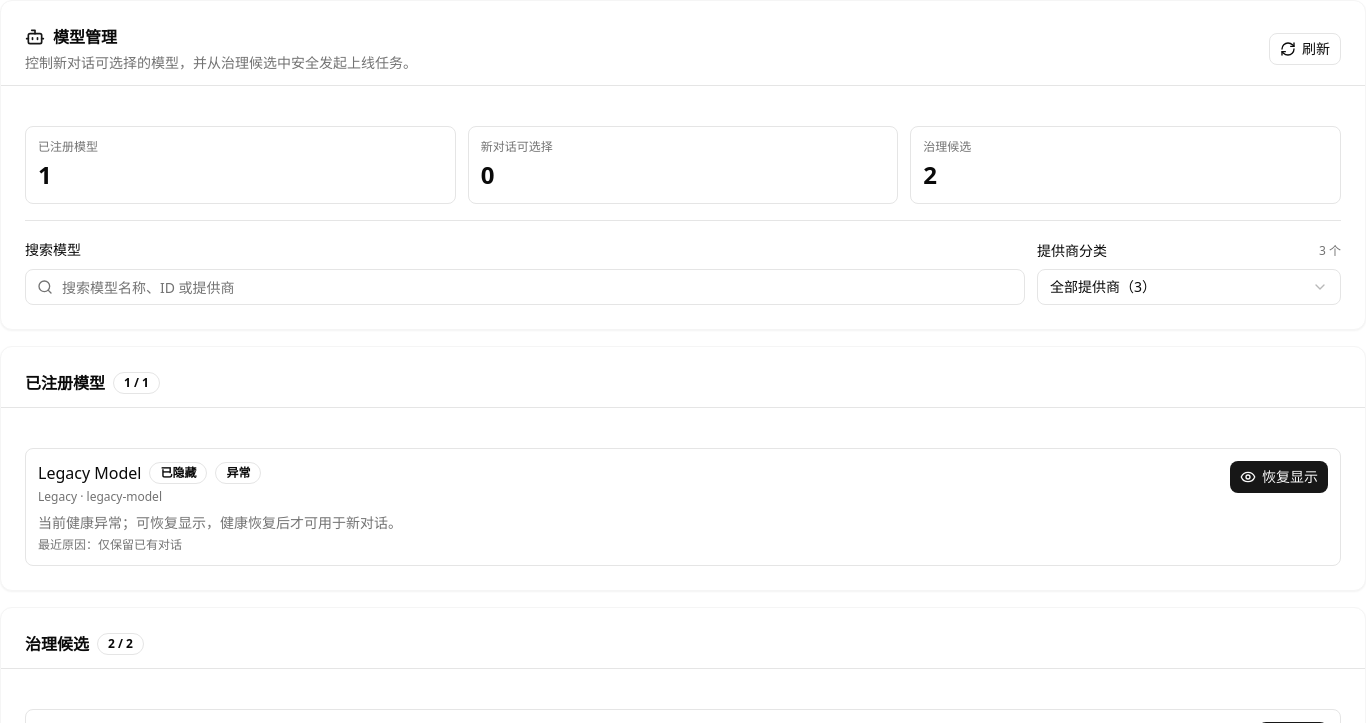
ModelManagementPanel › 健康异常的隐藏模型只恢复显示，不误报为立即可选择
Expected: the text "1" is shown, [38,158,52,191]
Expected: the text "当前健康异常；可恢复显示，健康恢复后才可用于新对话。" is shown, [38,513,402,533]
Click the button with aria-label "恢复显示 Legacy Model" at (1279, 477), box [1230,461,1328,493]
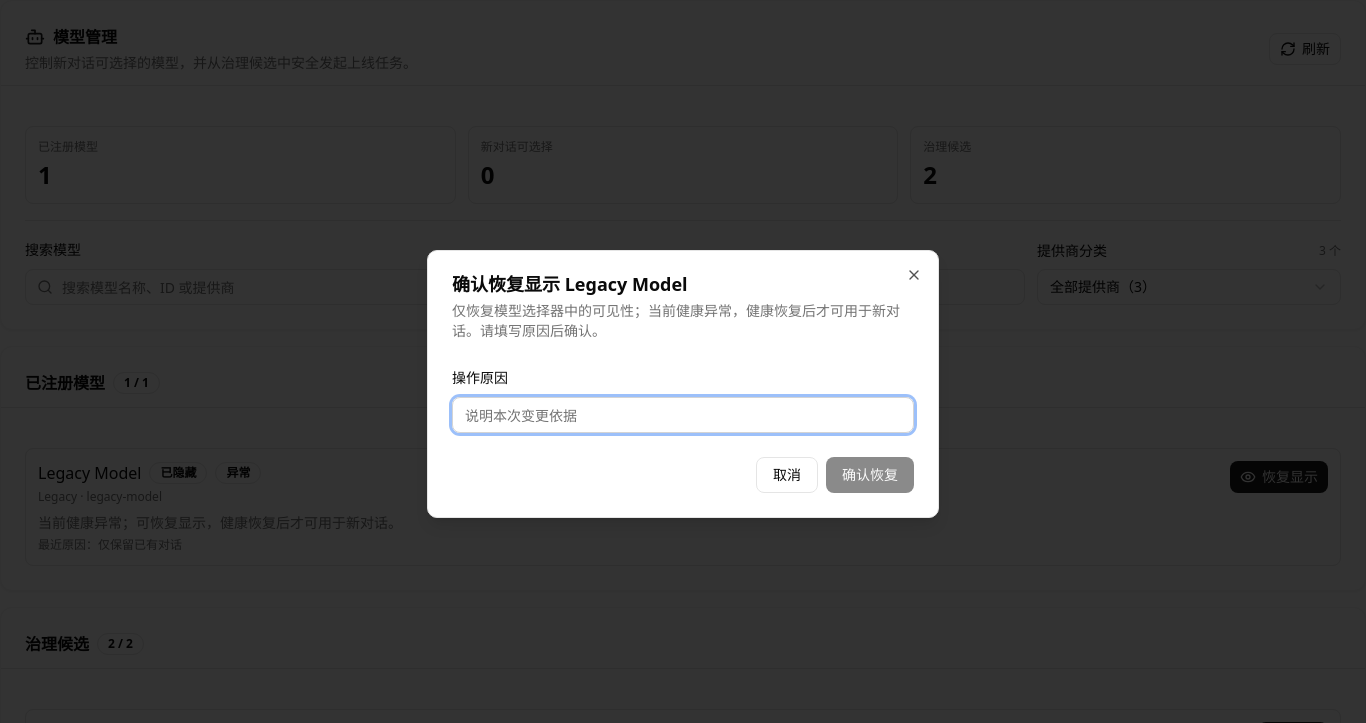
Expected: the dialog does not show "新对话可以再次选择", [427,250,939,518]
Expected: the dialog shows "仅恢复模型选择器中的可见性", [452,301,900,340]
Expected: the dialog shows "健康恢复后才可用于新对话", [452,301,900,340]
Type "恢复展示" into the field labelled "操作原因" at (683, 415), box [452,397,914,433]
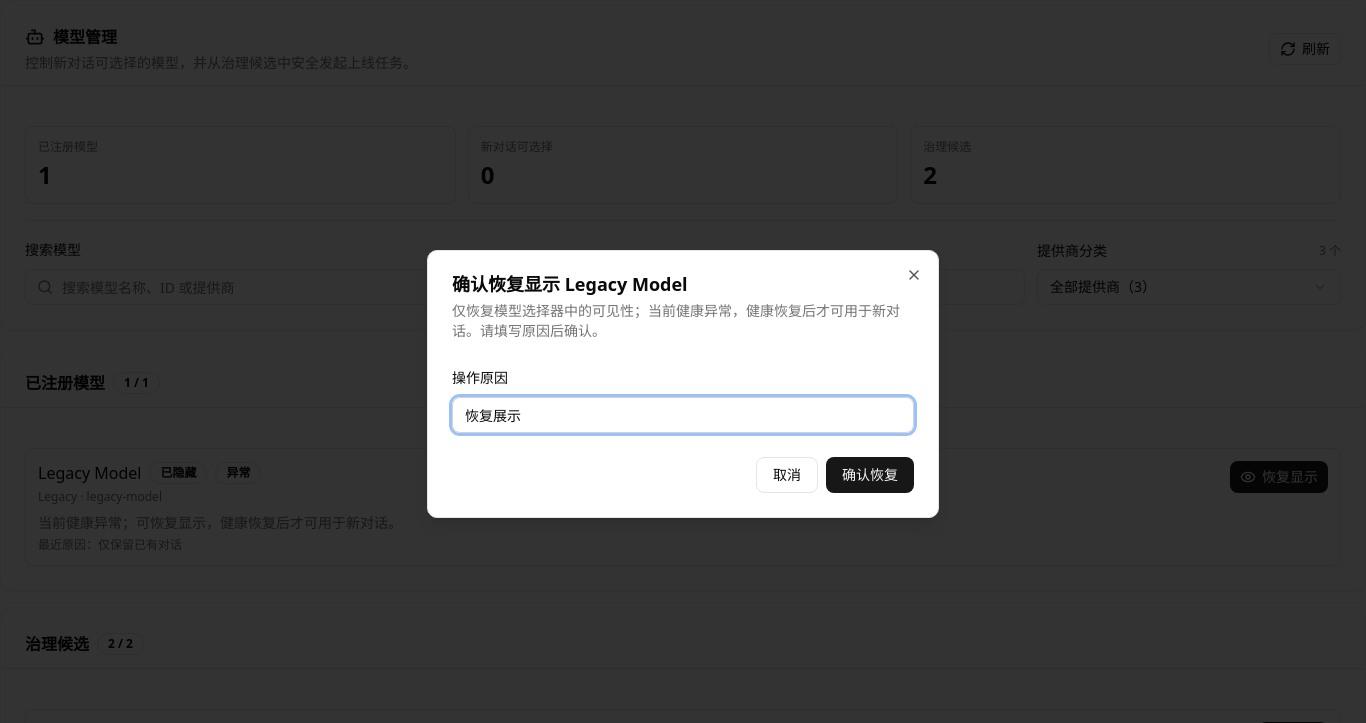
Click the button "确认恢复" at (870, 475), box [826,457,914,493]
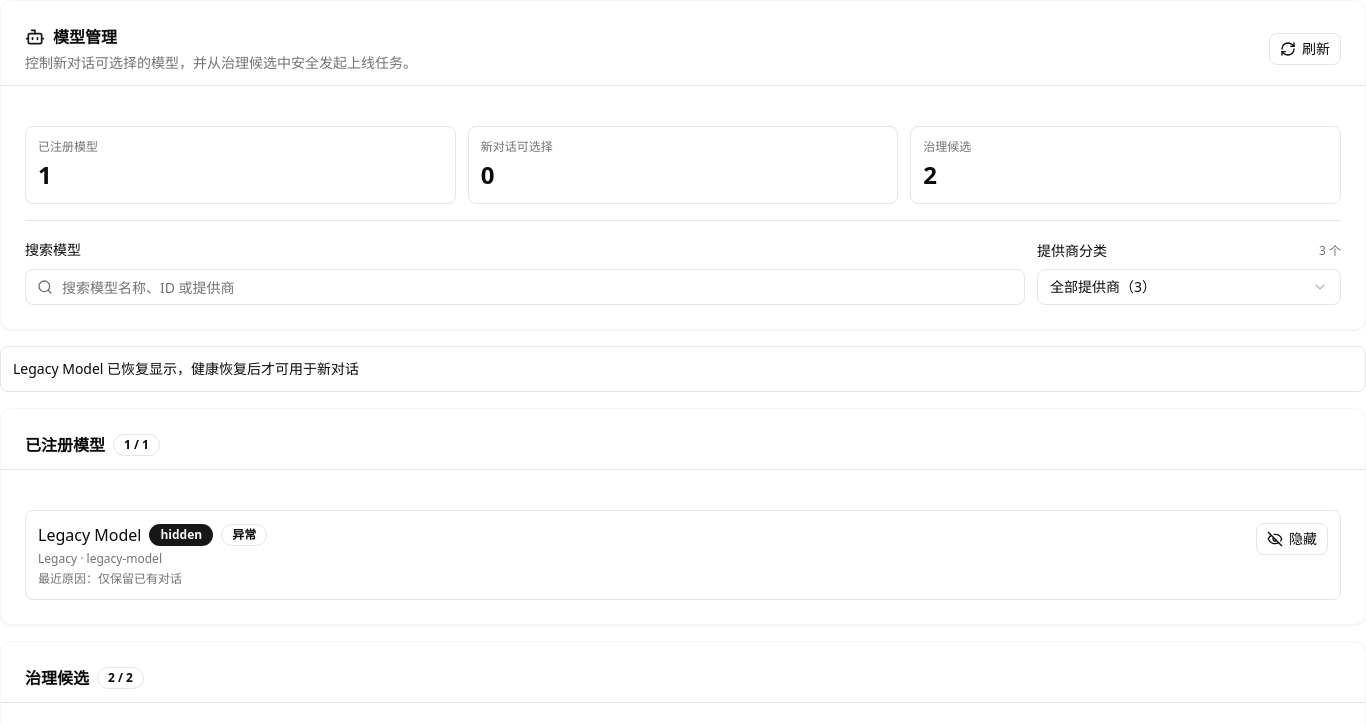
Expected: the message shows "已恢复显示，健康恢复后才可用于新对话", [13,359,359,378]
